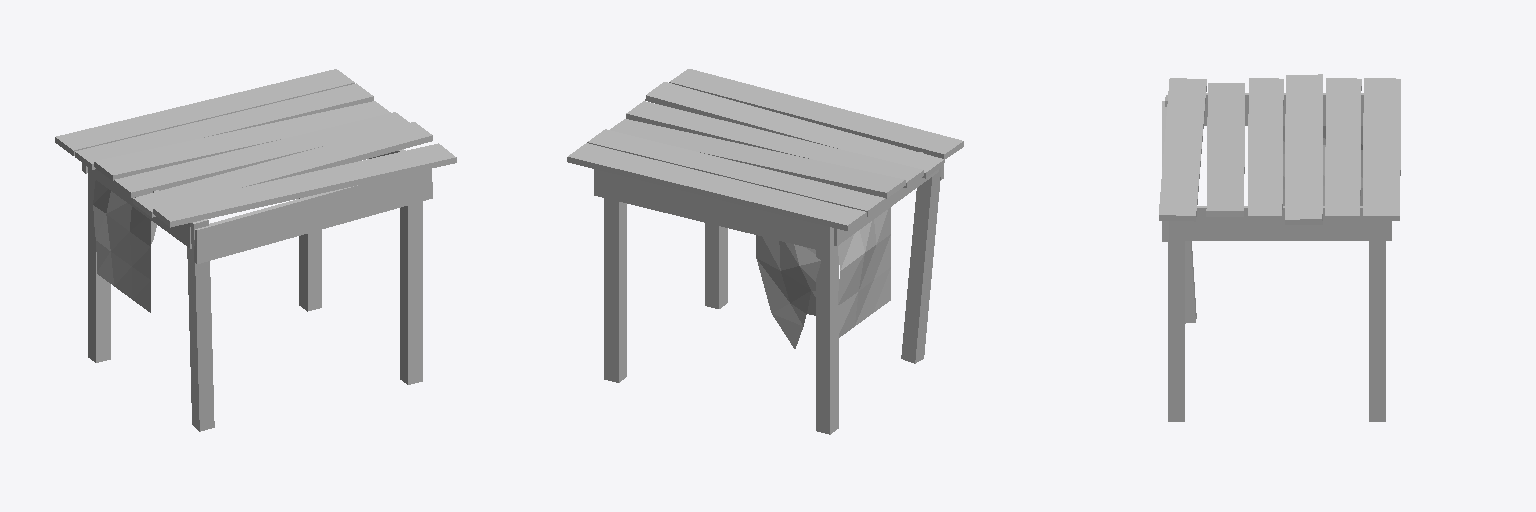
File: Old_Table.obj
The picture shows the model from 3 angles: view 1: azimuth 30°, elevation 25°; view 2: azimuth 150°, elevation 25°; view 3: azimuth 270°, elevation 25°; orthographic projection.
Parts seen in each view (by area): view 1: Table_Куб.017; view 2: Table_Куб.017; view 3: Table_Куб.017.
Part boxes in pixels (x1,y1,x2,y2): Table_Куб.017: (55, 69, 456, 431); Table_Куб.017: (567, 69, 963, 434); Table_Куб.017: (1159, 74, 1400, 421).
Bounding box in the file's own units: 0.9715 × 0.7472 × 0.7247.